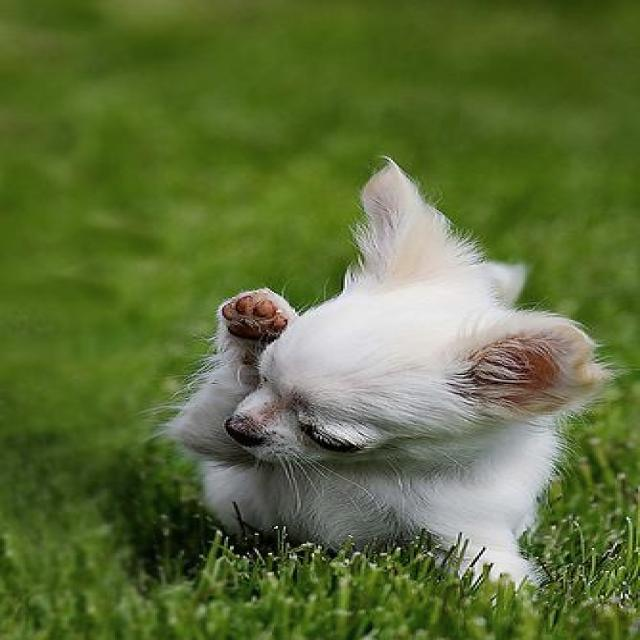chihuahua: (150, 150, 616, 606)
